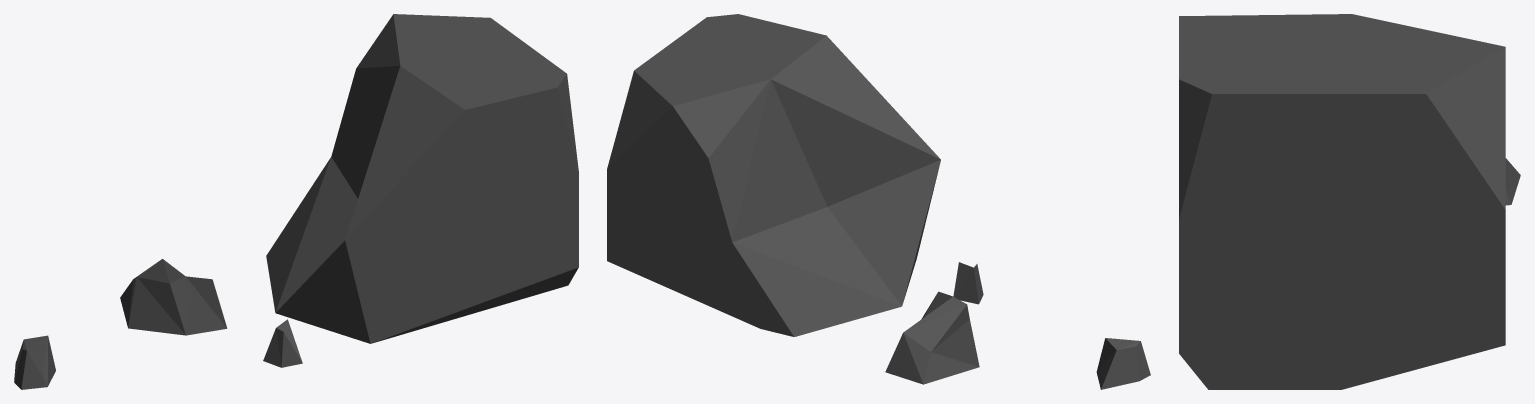
The model's file is Brick_A_05.FBX.
3 views of the same model, side by side, from view 1: azimuth 30°, elevation 25°; view 2: azimuth 150°, elevation 25°; view 3: azimuth 270°, elevation 25° (orthographic). The views are drawn at different scales.
Visible parts, largest first — view 1: Brick_A_05; view 2: Brick_A_05; view 3: Brick_A_05.
Boxes of the visible parts, x1=… form: Brick_A_05: x1=14, y1=14, x2=578, y2=389; Brick_A_05: x1=607, y1=14, x2=1150, y2=389; Brick_A_05: x1=1179, y1=14, x2=1520, y2=389.
Size of the model in its own units: 2.51 by 1.05 by 1.05.
